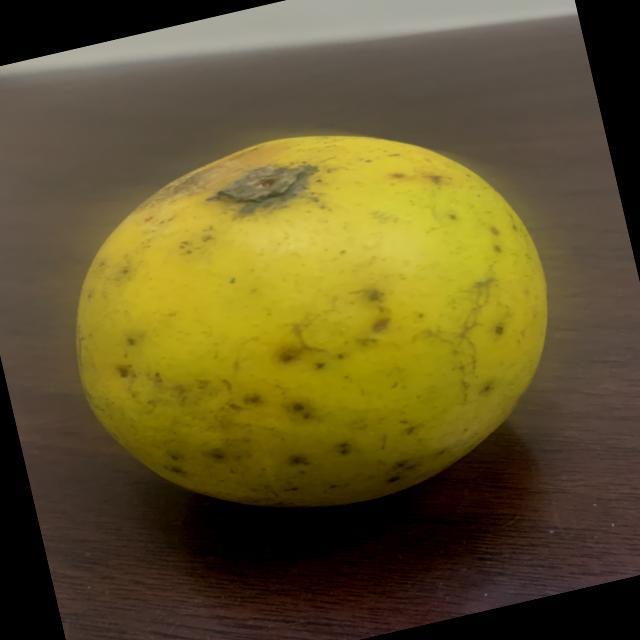Ripe orange: (12, 74, 604, 572)
